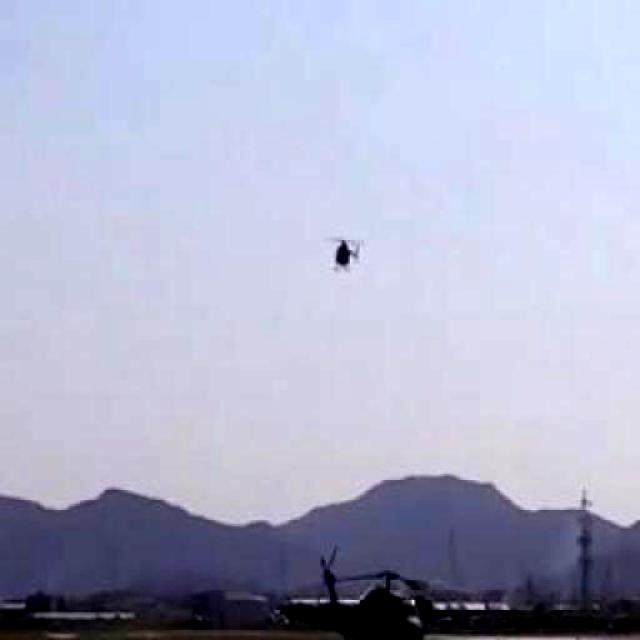drone: (304, 536, 456, 640), (304, 191, 390, 291)
